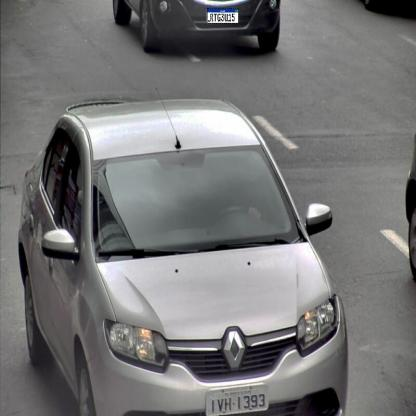PlacaM: (207, 8, 239, 24)
